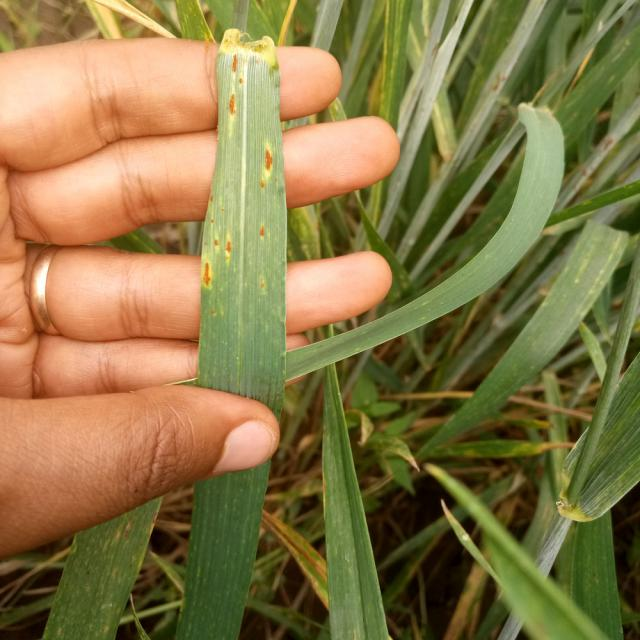wheat-stemrust: (187, 28, 290, 417)
